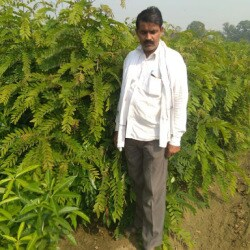person: (136, 9, 162, 53)
